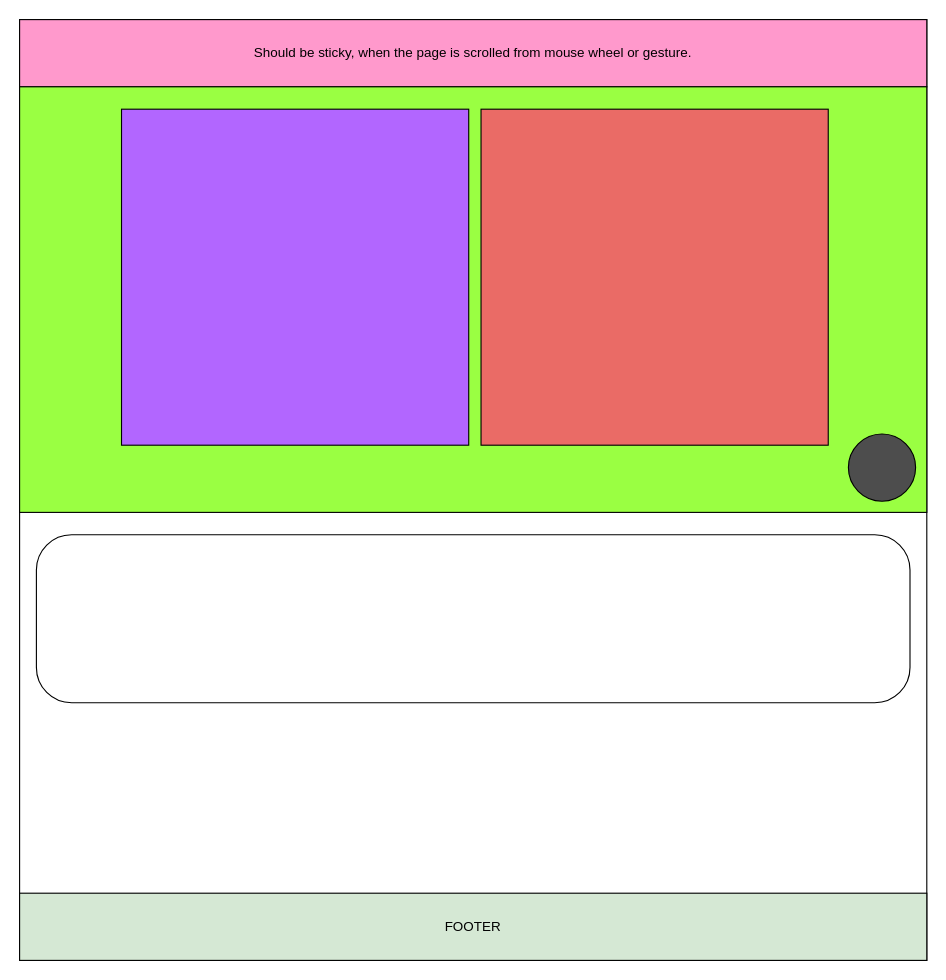
The diagram is 946 pixels wide and 980 high, and some of its shapes have lost their labels. Here are the shapes that lost their labels. From the top down, the centre of each, then its label:
At (x=881, y=467): "FIXED HERE".
At (x=472, y=618): "Welcome to this Sigma Web Development Express".
